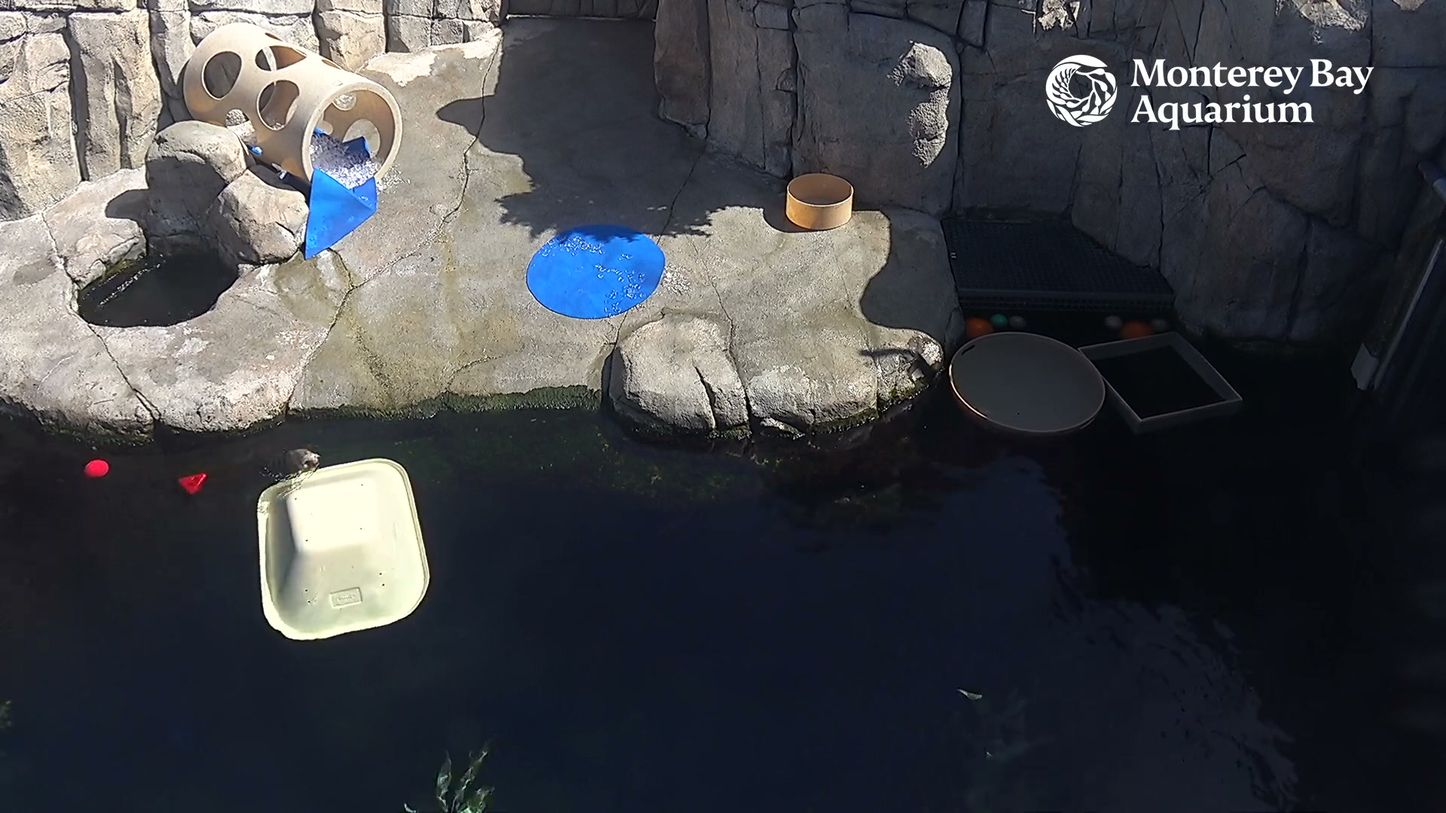Southern Sea Otter: (273, 434, 329, 485)
